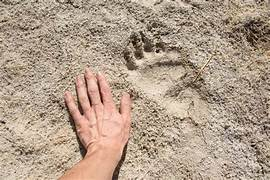bear: (119, 27, 199, 122)
